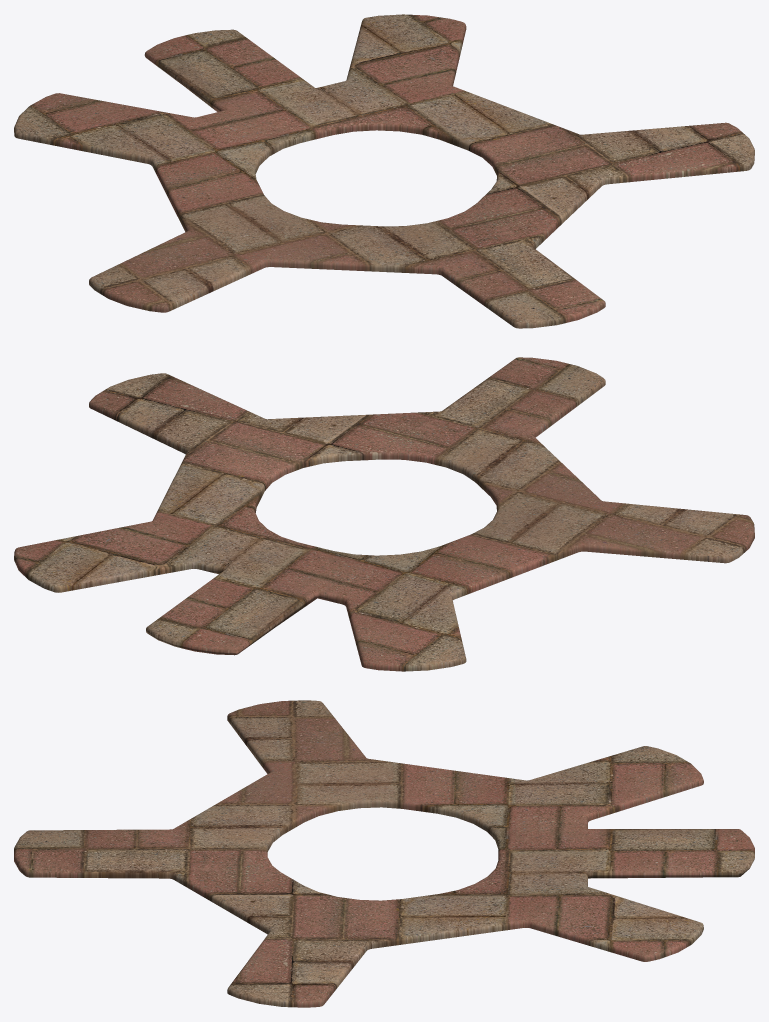
File: Ruas.fbx
3 views of the same model, one above another, from view 1: azimuth 30°, elevation 25°; view 2: azimuth 150°, elevation 25°; view 3: azimuth 270°, elevation 25° (orthographic). The views are drawn at different scales.
Visible parts, largest first — view 1: Ruas; view 2: Ruas; view 3: Ruas.
Boxes of the visible parts, left/top/right/bottom form: Ruas: left=14, top=14, right=754, bottom=328; Ruas: left=14, top=357, right=754, bottom=671; Ruas: left=14, top=700, right=754, bottom=1007.
Size of the model in its own units: 513 by 5.5 by 530.
